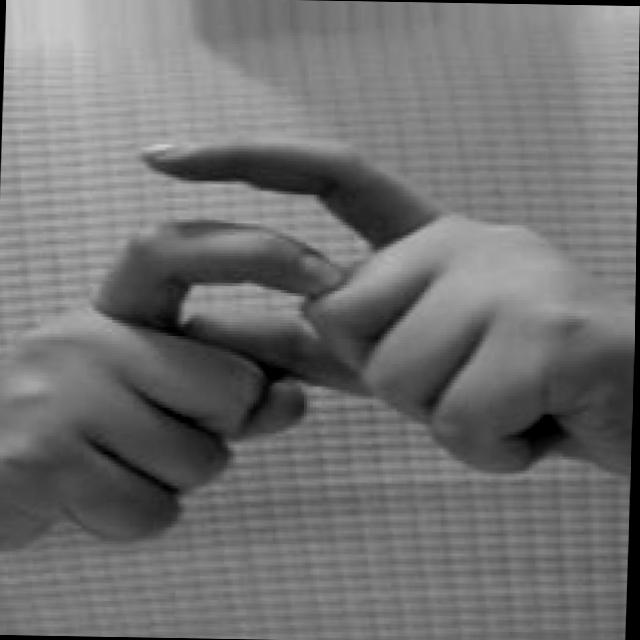G: (0, 126, 638, 559)
